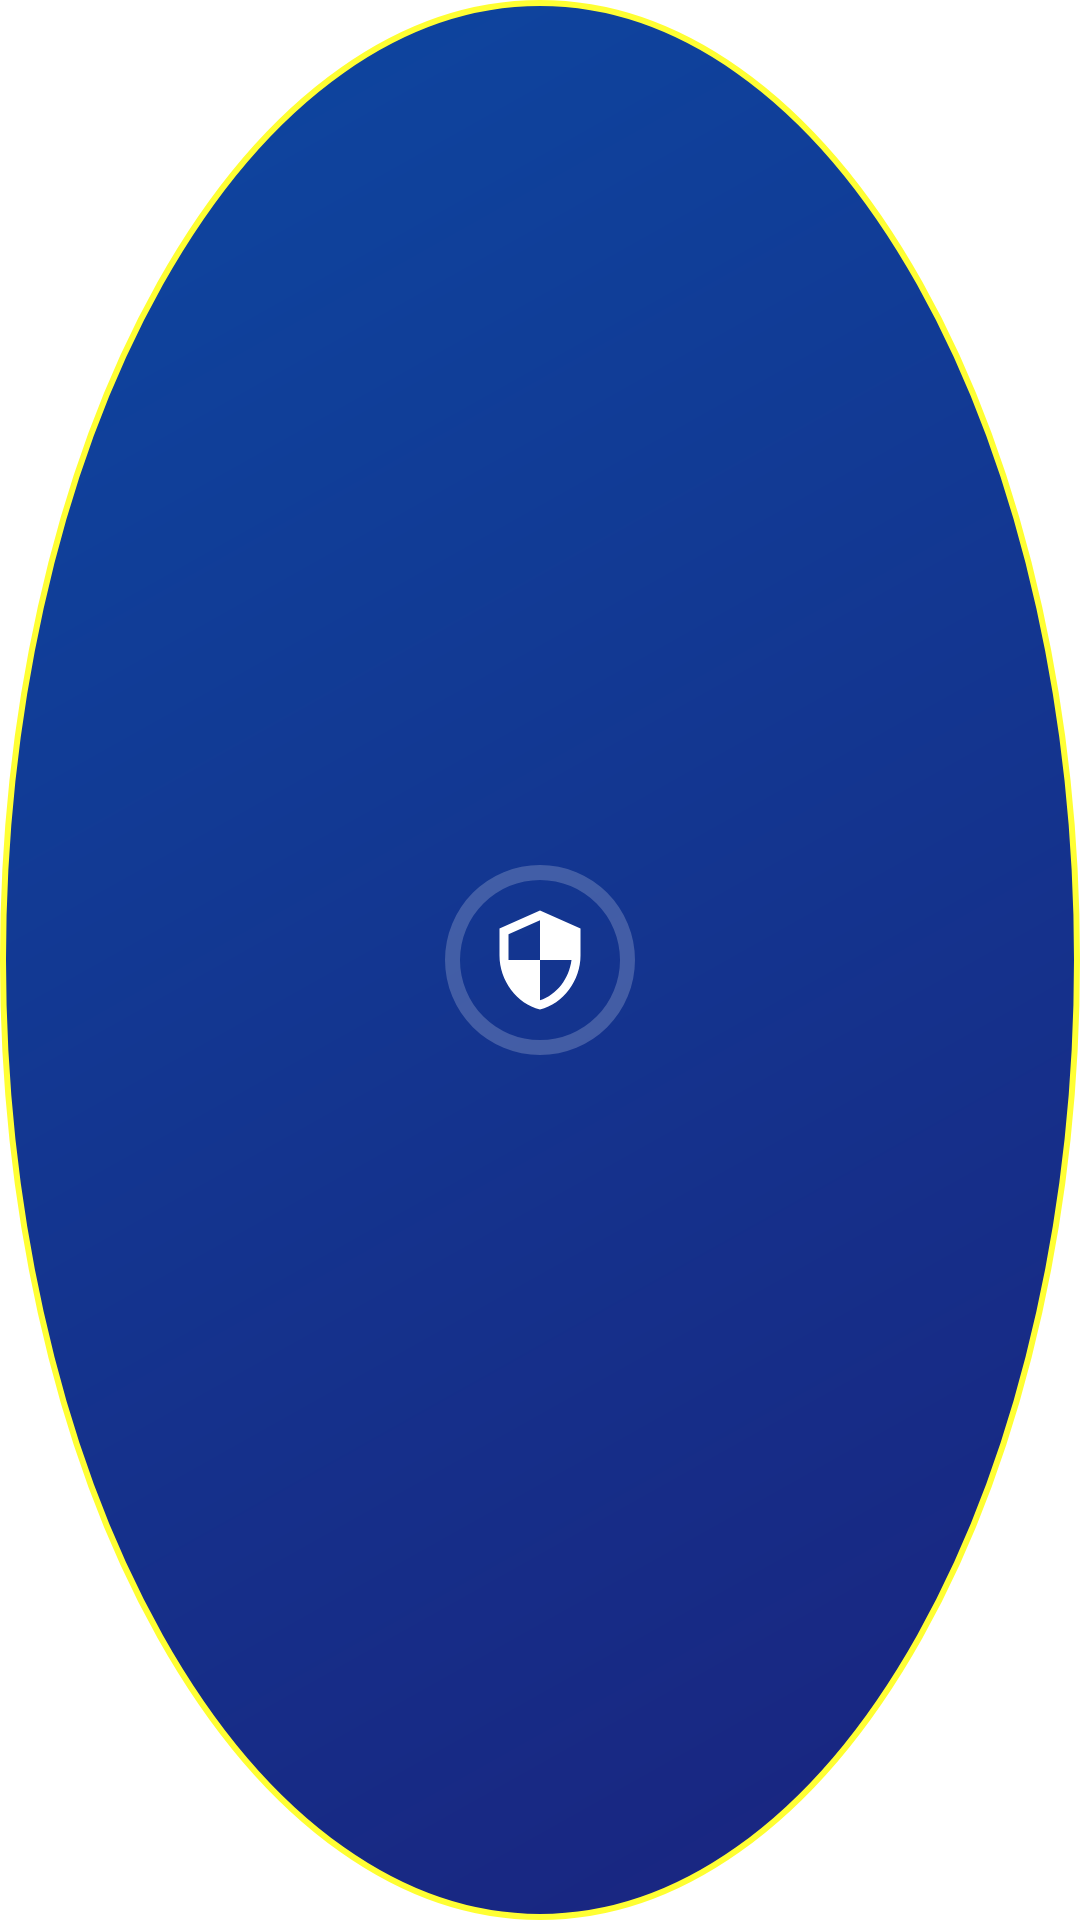

Icons on this 1080px x 1920px Android screen, each with its box as (x1, y1, x2, y2):
Sentinel Protection: (499, 910, 581, 1010)
